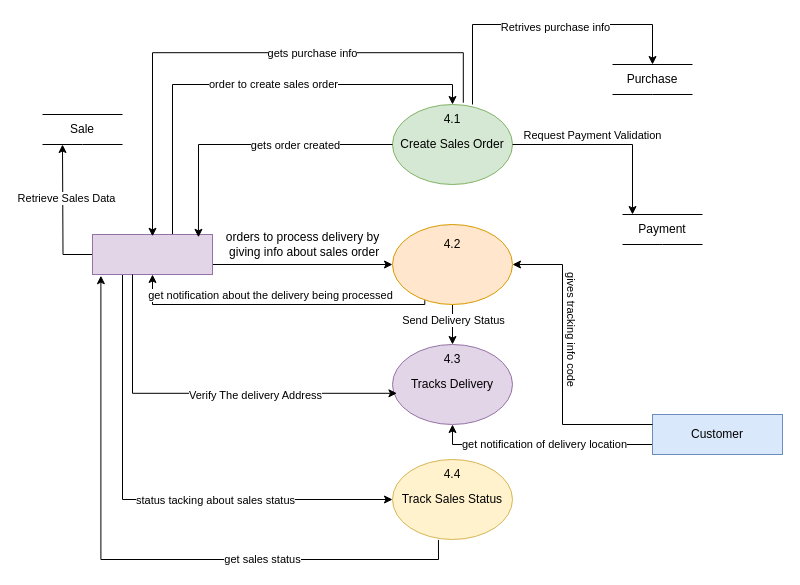
The diagram is 800 pixels wide and 585 high, and some of its shapes have lost their labels. Each missing label, with the box of its shape:
Admin: (92, 234, 212, 274)
Process Delivery: (392, 224, 512, 304)
